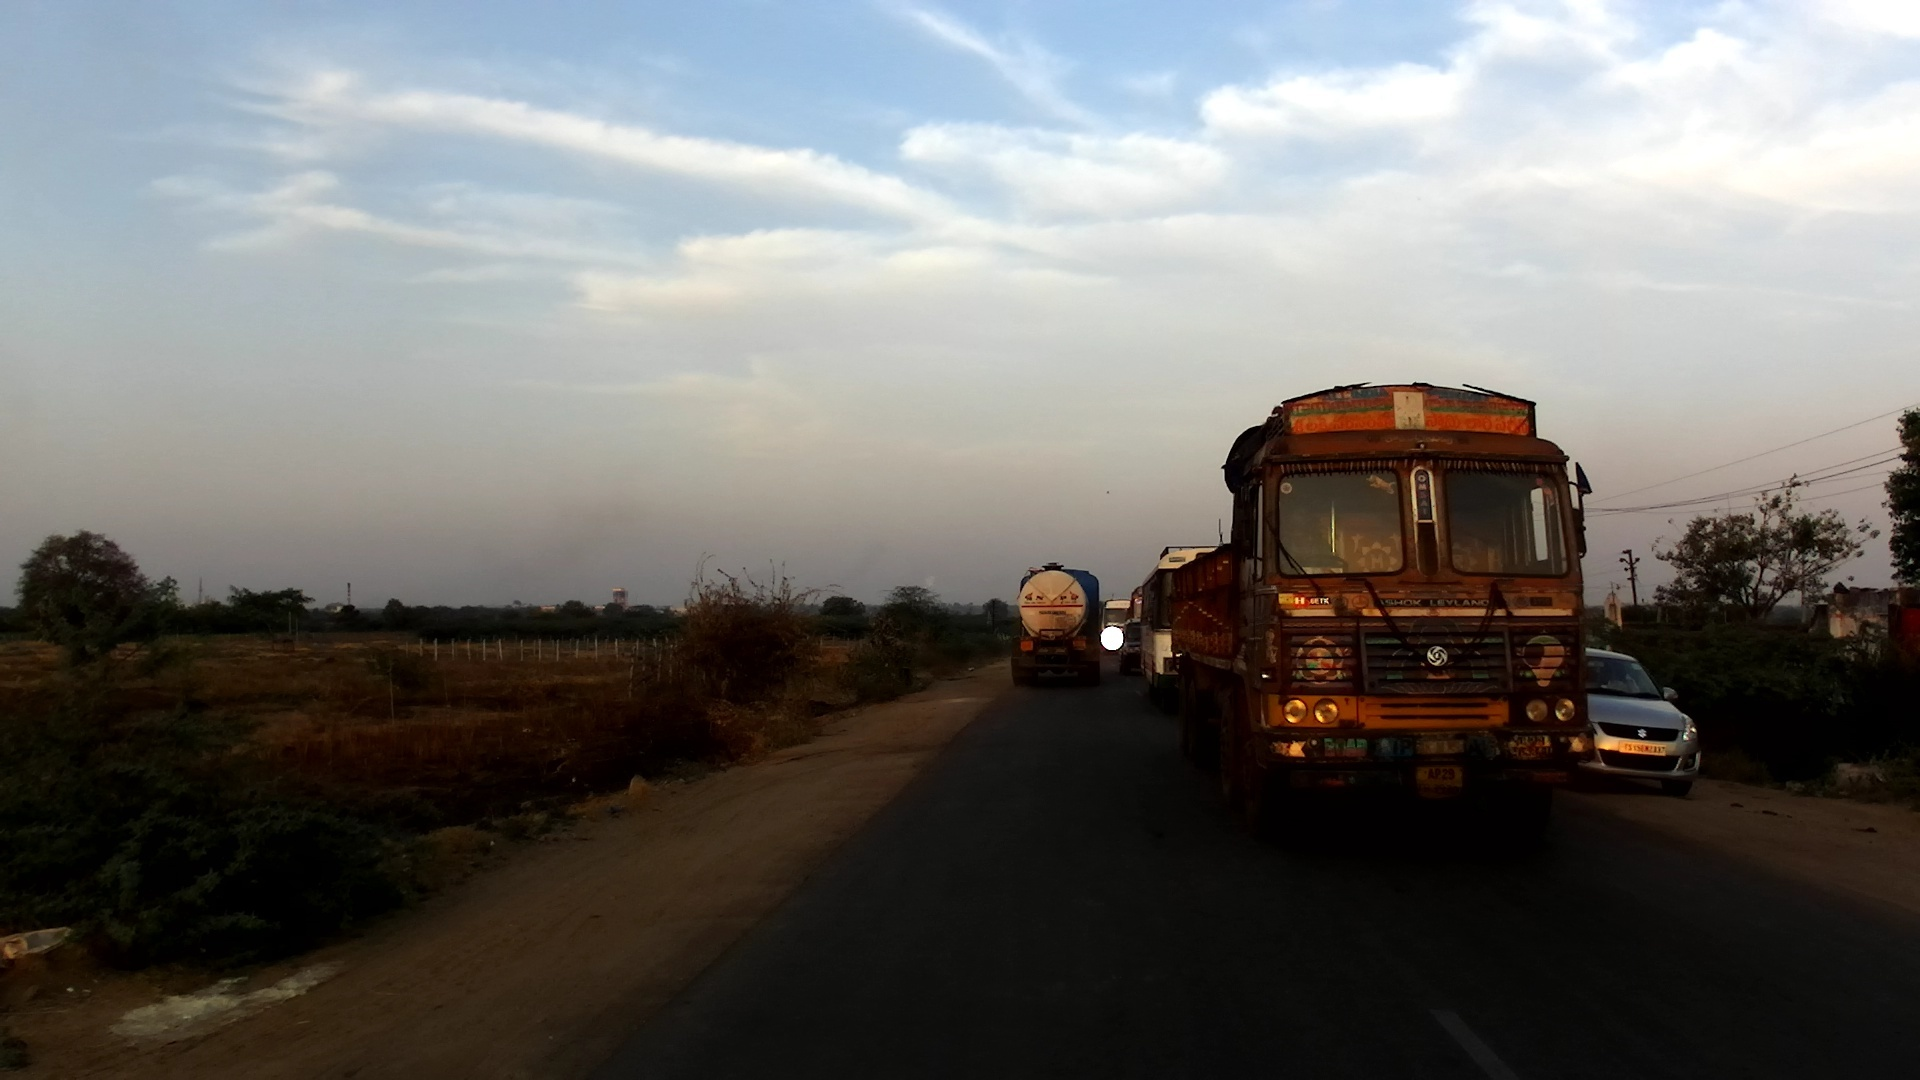bus: (1135, 537, 1240, 716), (1124, 582, 1154, 691), (1095, 597, 1135, 675)
car: (1573, 647, 1704, 804)
truck: (1171, 382, 1598, 873), (1010, 560, 1105, 699)
